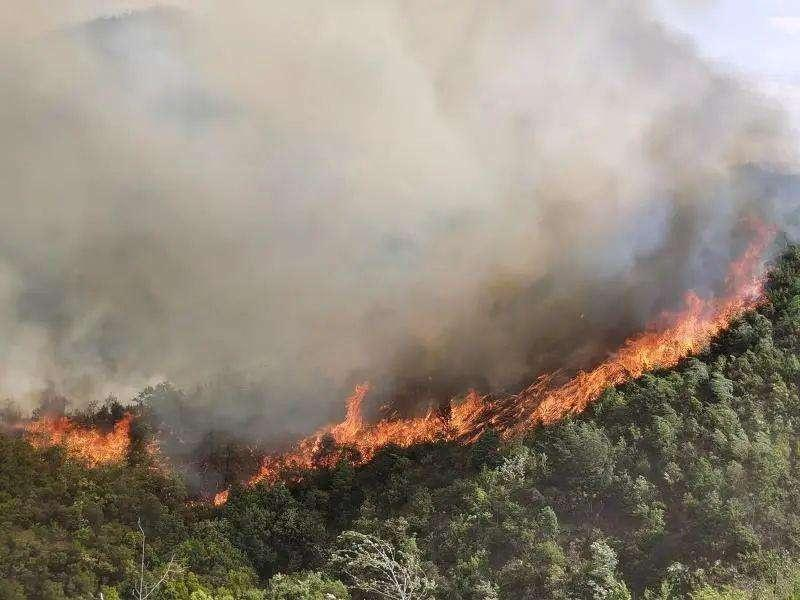fire: (187, 324, 542, 524), (539, 175, 775, 427), (40, 348, 179, 505)
